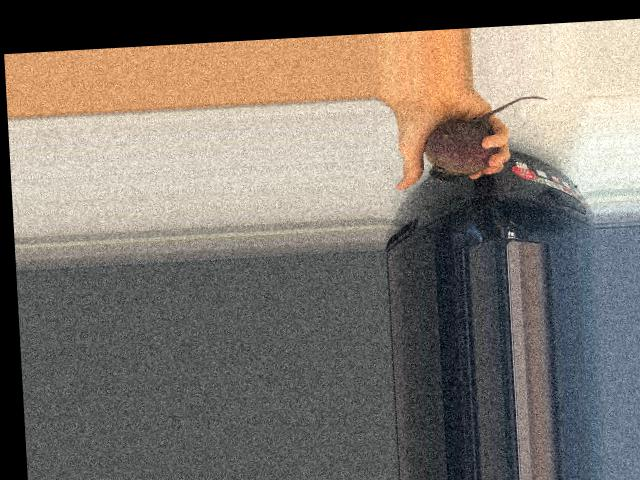beet: (423, 94, 551, 183)
